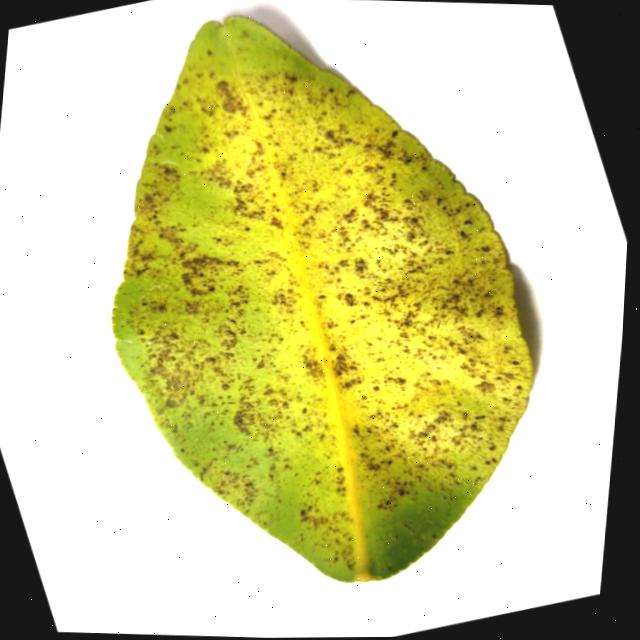melanose: (112, 16, 533, 581)
